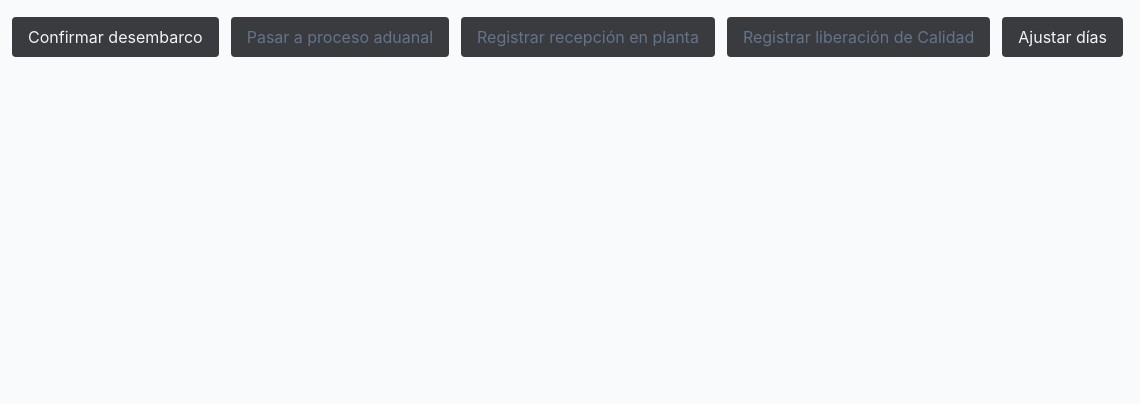
cada acción › cualquier otro rechazo muestra el mensaje del backend
The width and height of the screenshot is (1140, 404).
Click the button "Confirmar desembarco" at [115, 37], box [12,17,219,57]
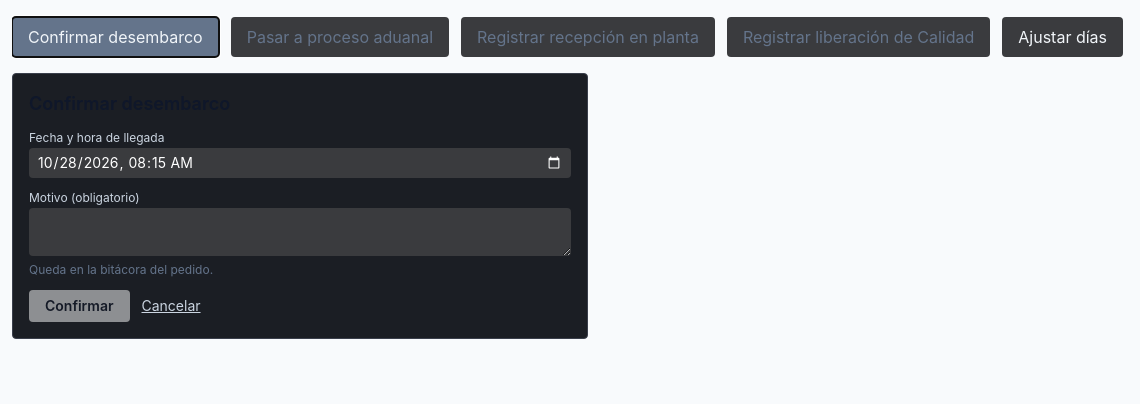
Type "Confirmado con el agente aduanal" into the text box labelled "Motivo (obligatorio) Queda en la bitácora del pedido." at [300, 232], box [29,208,571,256]
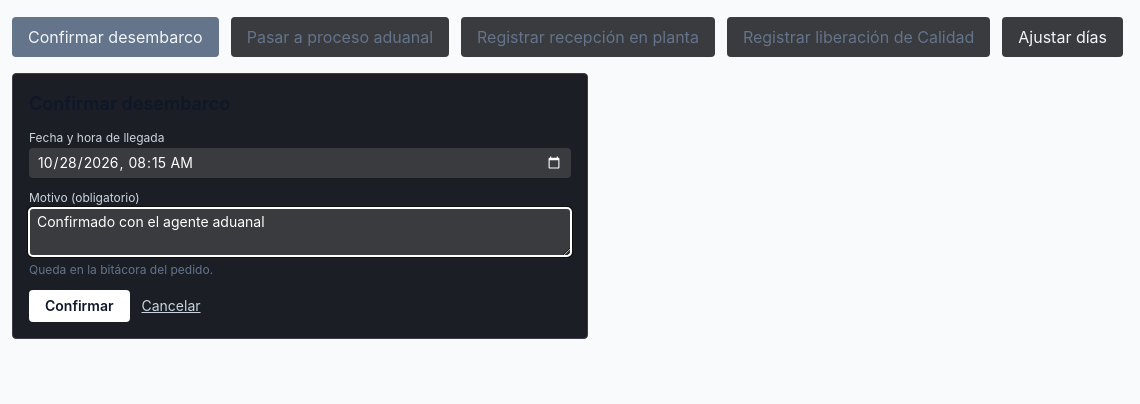
Click the button "Confirmar" at [79, 306], box [29,290,130,322]
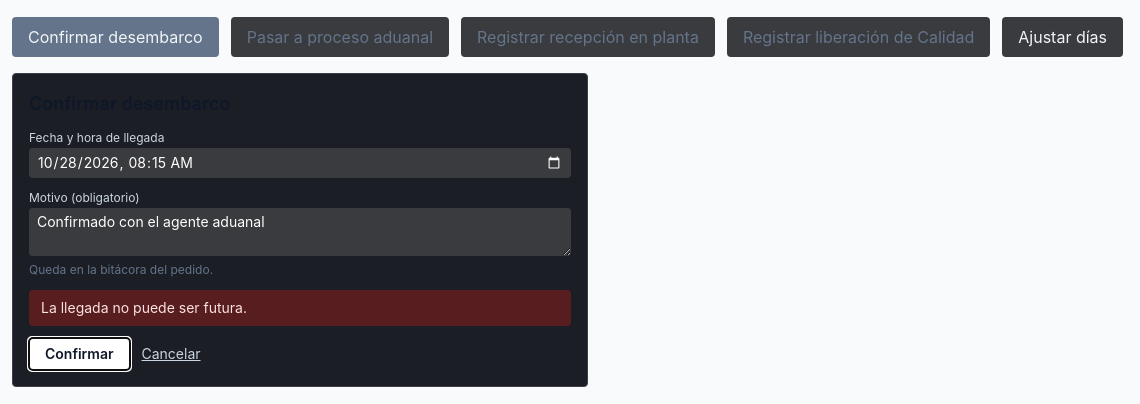
Expected: the message reads "La llegada no puede ser futura.", [41,299,247,316]
